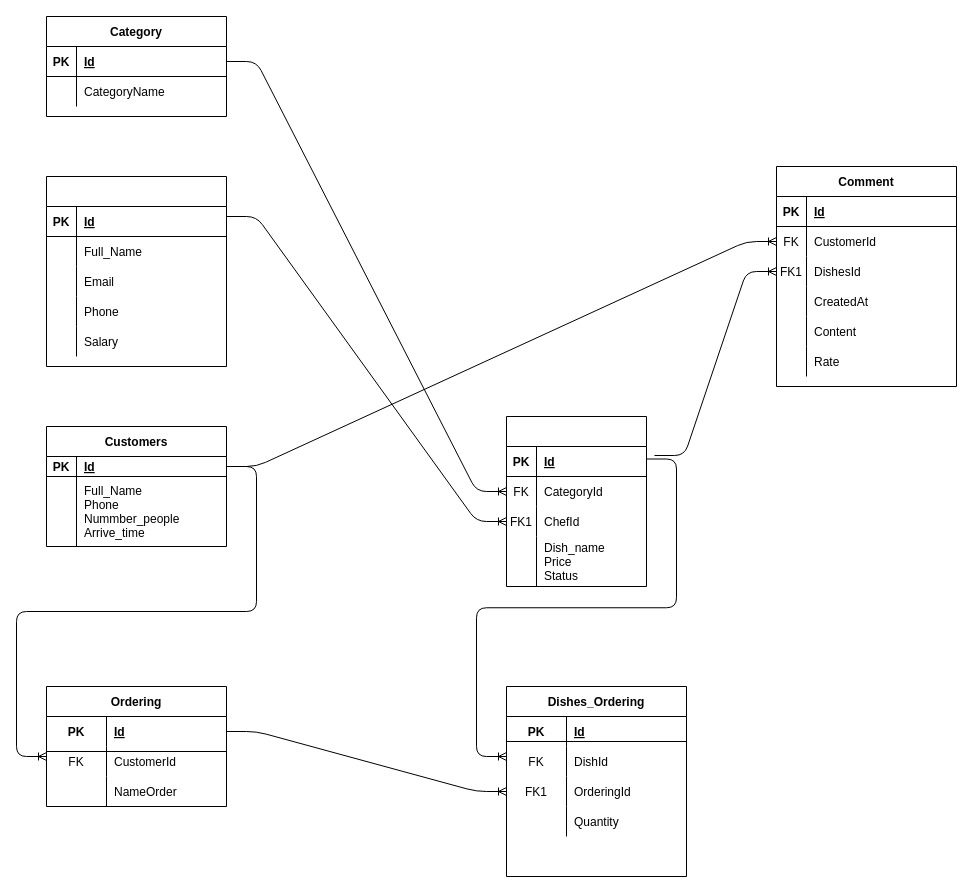
The diagram is 973 pixels wide and 893 high, and some of its shapes have lost their labels. The shapes that lost their labels are listed below. From the top down, each one's box as (x1, y1, x2, y2) in pixels, then its label:
(46, 176, 226, 366): Chef
(506, 416, 646, 586): Dishes
